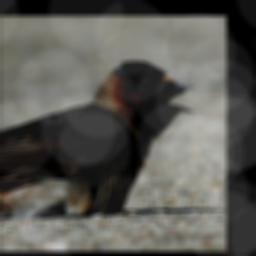Swallow: (1, 59, 198, 222)
